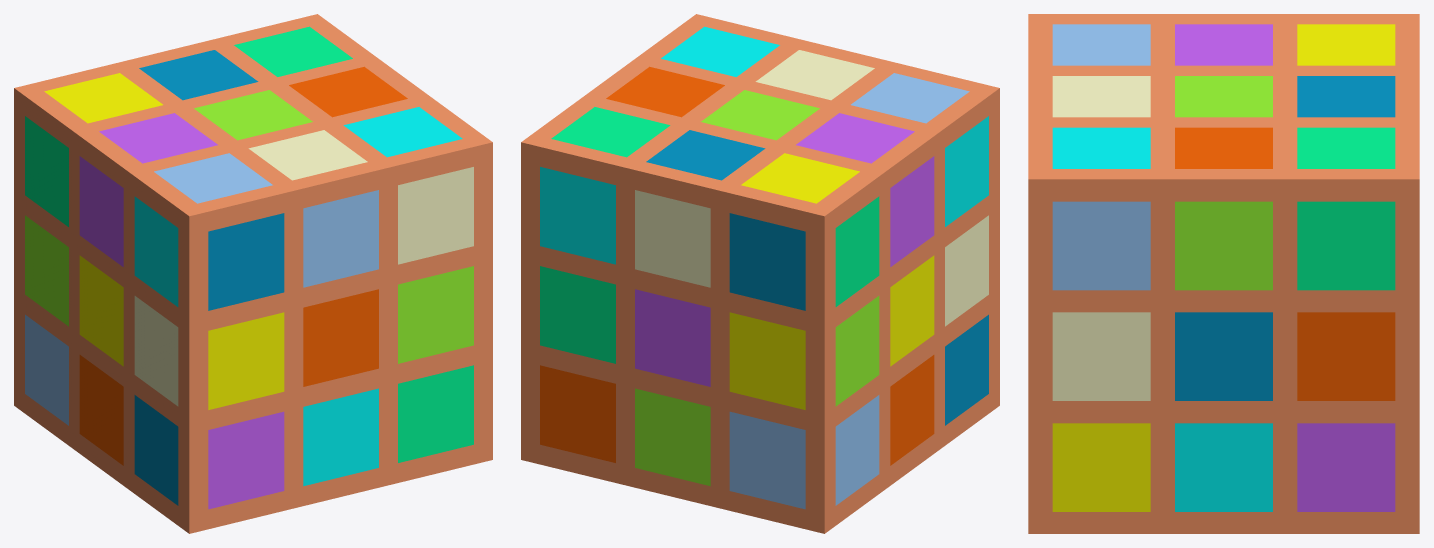
The picture shows the model from 3 angles, left to right: view 1: azimuth 30°, elevation 25°; view 2: azimuth 150°, elevation 25°; view 3: azimuth 270°, elevation 25°; orthographic projection. The views are drawn at different scales.
Parts seen in each view (by area): view 1: 对象; view 2: 对象; view 3: 对象.
Boxes of the visible parts, x1,y1,x2,y2 form: 对象: (14,14,492,533); 对象: (521,14,999,533); 对象: (1028,14,1419,533).
Size of the model in its own units: 16 by 16 by 16.
Materials: 1 (1 with a texture image).
